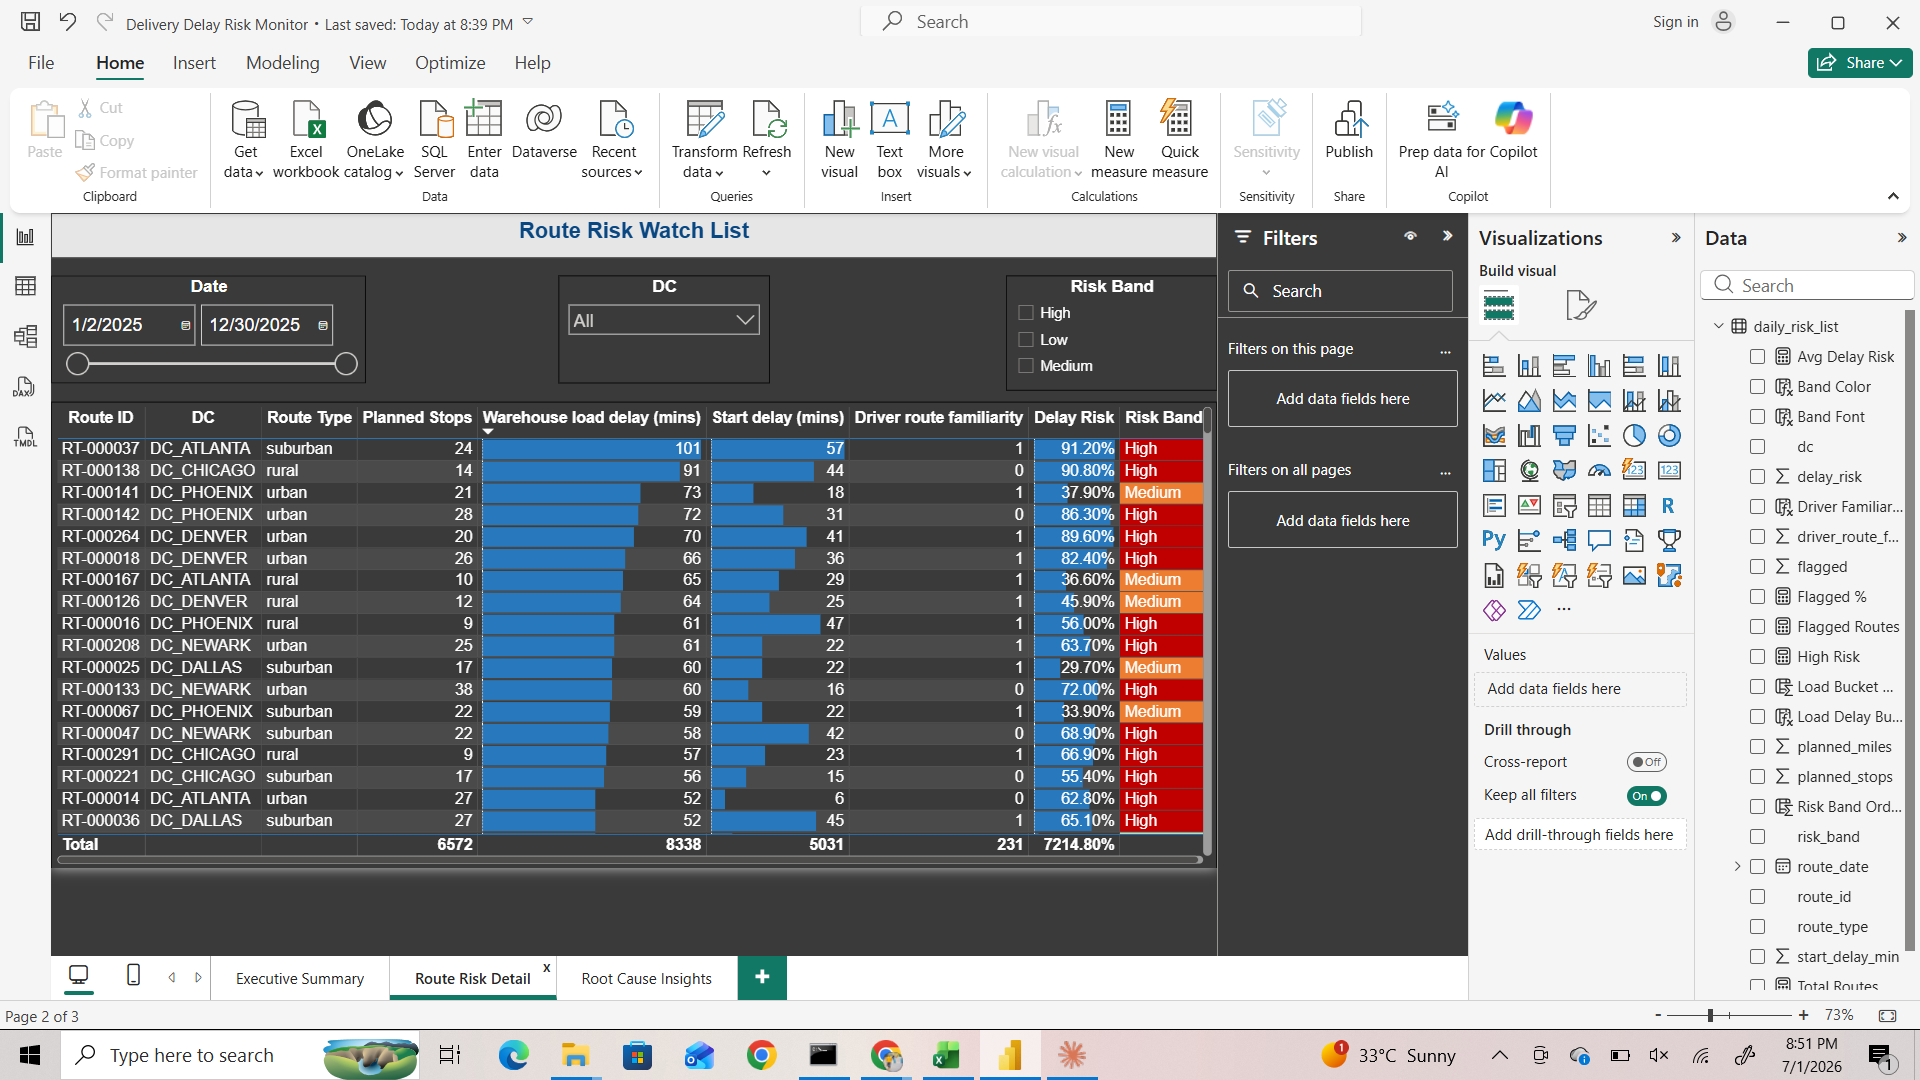

The page's visual inventory and layout, read from the dashboard file:
{"tool":"powerbi","page":{"name":"Route Risk Detail","canvas":[1280,720],"ordinal":1},"visuals":[{"type":"textbox","box":[0,0,1280.3,49.4],"z":0},{"type":"tableEx","fields":{"Values":["daily_risk_list.route_id","daily_risk_list.dc","daily_risk_list.route_type","Sum(daily_risk_list.planned_stops)","Sum(daily_risk_list.warehouse_load_delay_min)","Sum(daily_risk_list.start_delay_min)","Sum(daily_risk_list.driver_route_familiarity)","Sum(daily_risk_list.delay_risk)","daily_risk_list.risk_band"]},"box":[0,207.2,1280.3,513.2],"z":1},{"type":"slicer","title":"Date","fields":{"Values":["daily_risk_list.route_date"]},"box":[0,68.6,345.8,118],"z":2},{"type":"slicer","title":"DC","fields":{"Values":["daily_risk_list.dc"]},"box":[557.1,68.6,231.9,118],"z":3},{"type":"slicer","title":"Risk Band","fields":{"Values":["daily_risk_list.risk_band"]},"box":[1048.4,68.6,231.9,126.2],"z":4}]}

Visuals, with their boxes on the page's 1280x720 design canvas (x1, y1, x2, y2). These are canvas units, not pixel positions in the 1920x1080 screenshot, which may show the page scaled, cropped or inside an application window:
textbox: 0/0/1280/49
tableEx - daily_risk_list.route_id x daily_risk_list.dc: 0/207/1280/720
"Date" slicer: 0/69/346/187
"DC" slicer: 557/69/789/187
"Risk Band" slicer: 1048/69/1280/195
